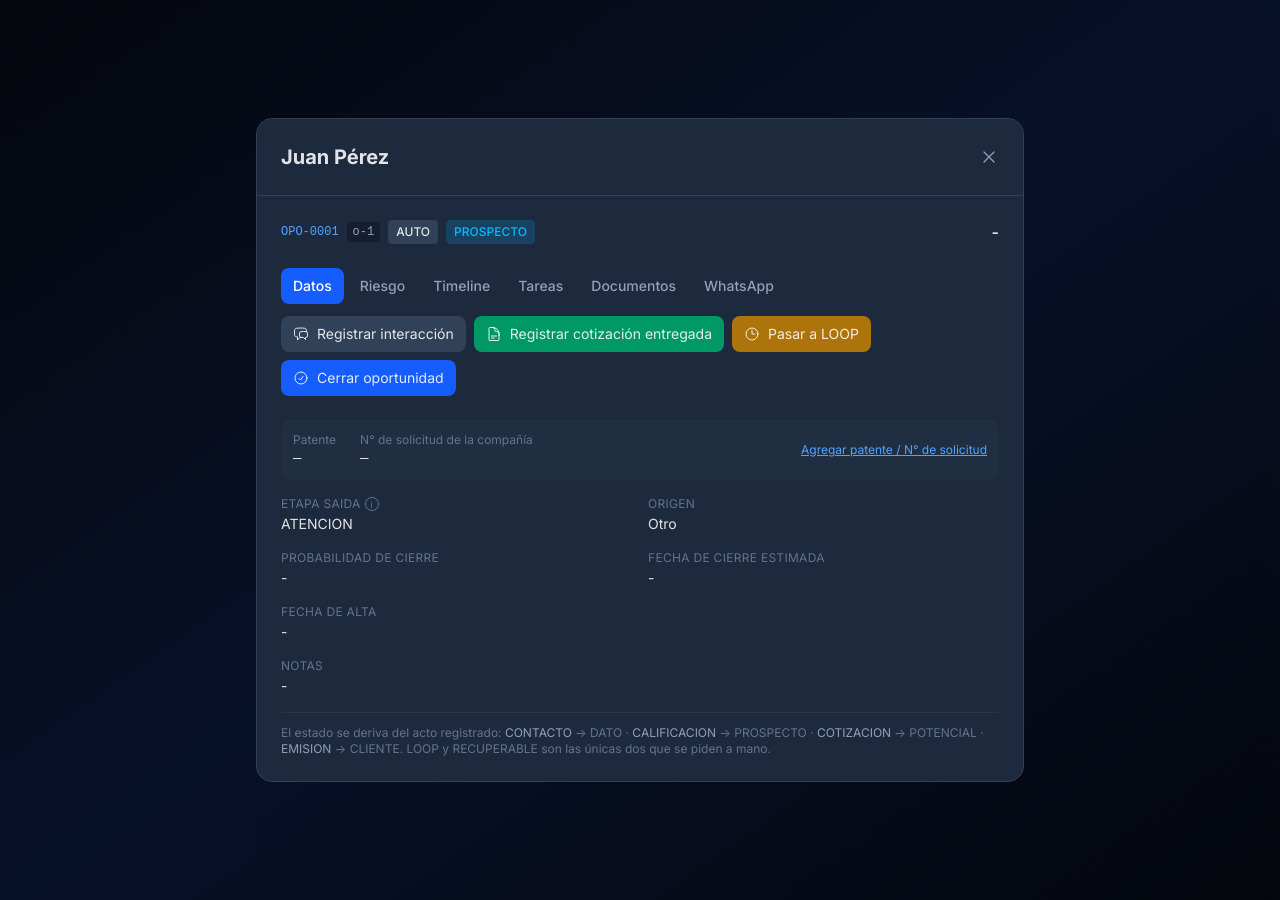
Test case: Ficha · completar una tarea › si el PATCH falla, el modal queda abierto con el error (sin alert nativo)
Check: the text "OPO-0001" is shown, box [281, 224, 339, 240]
Click the button "Tareas": x=541, y=286 [506, 268, 575, 304]
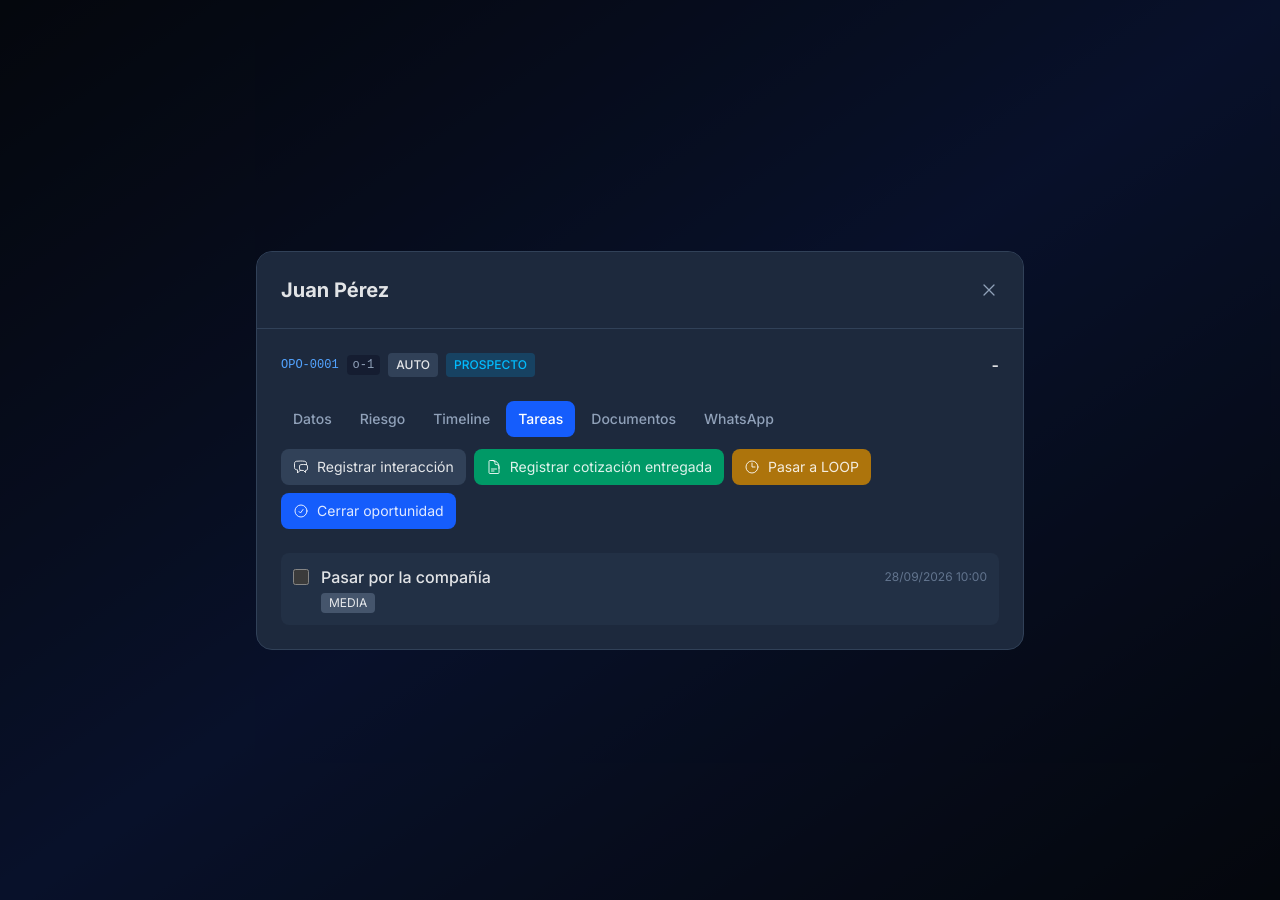
Click the checkbox named "Completar Pasar por la compañía": x=301, y=576 [293, 568, 309, 584]
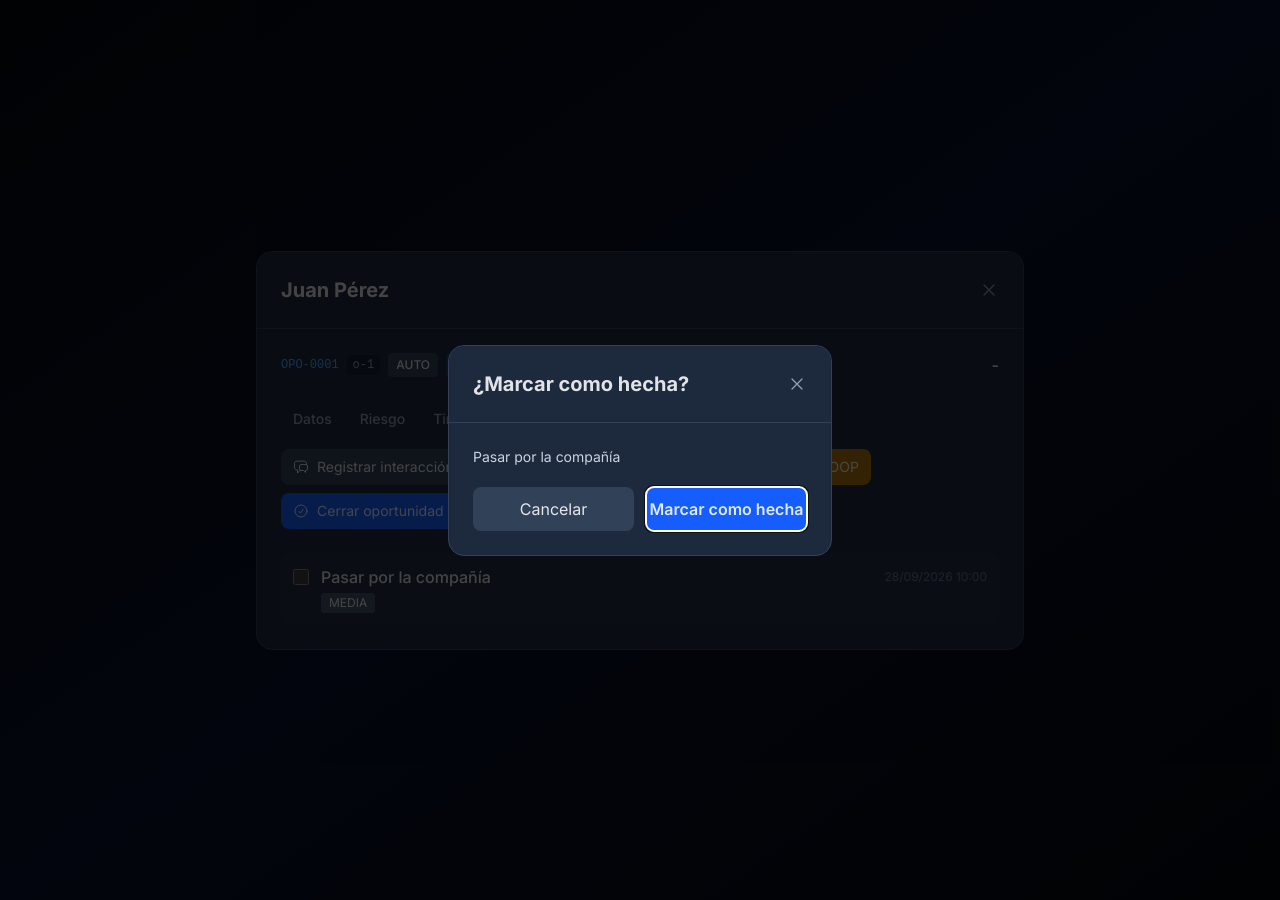
Click the button "Marcar como hecha": x=726, y=508 [646, 486, 807, 530]
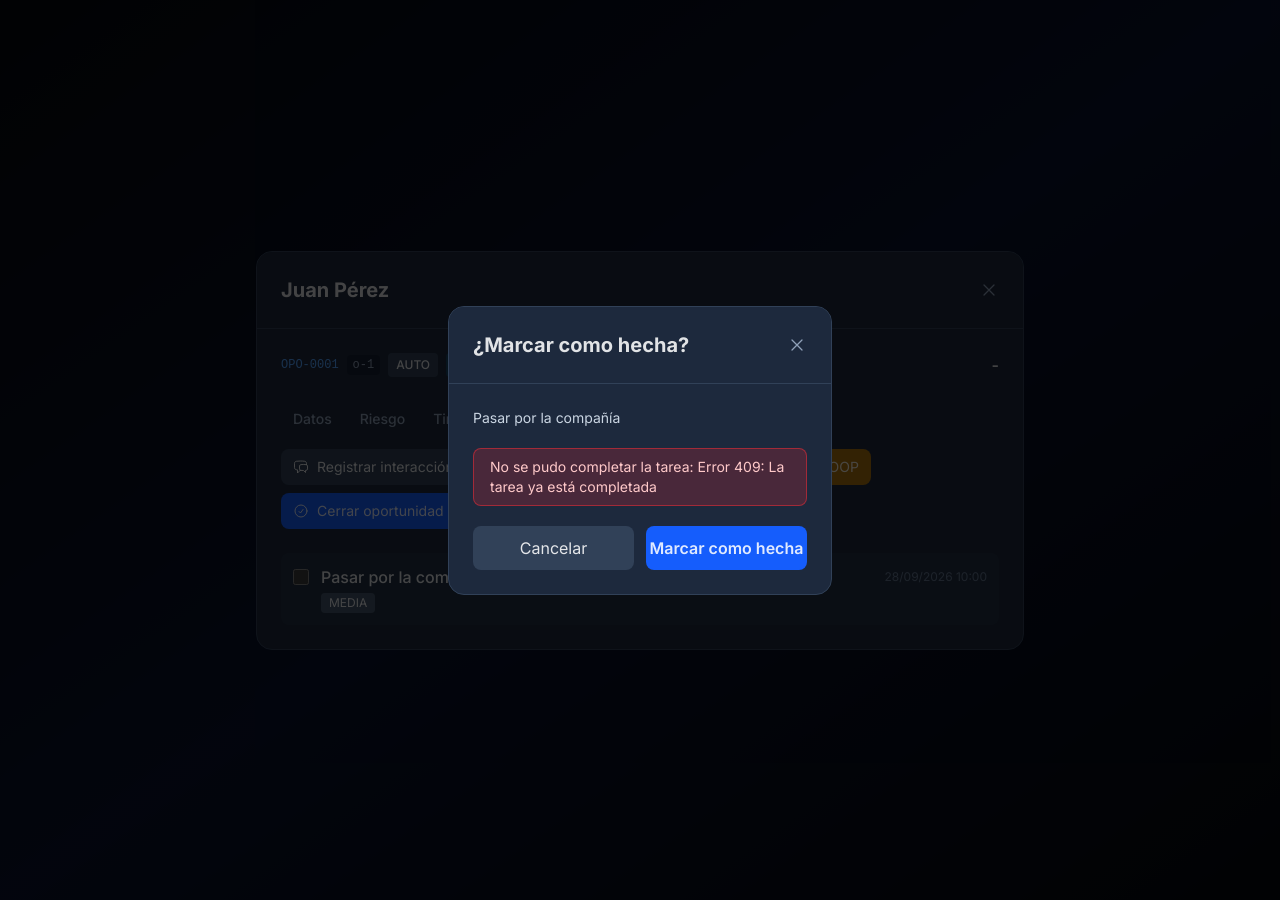
Check: the dialog is shown, box [473, 408, 807, 570]
Check: the message shows "No se pudo completar la tarea", box [490, 458, 784, 494]
